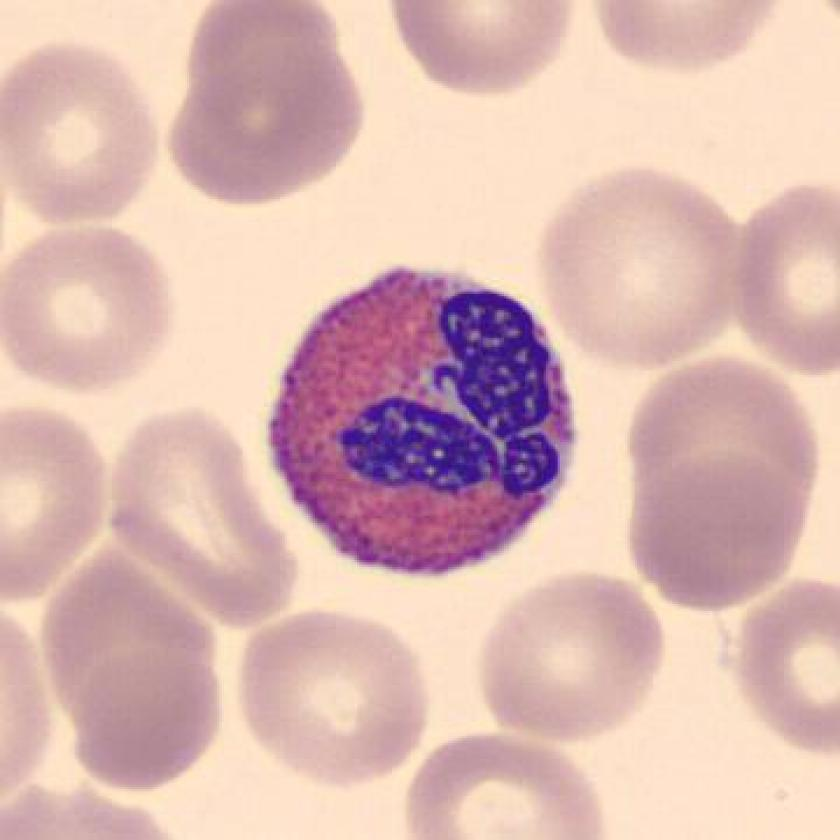eosinophil: (253, 249, 587, 587)
